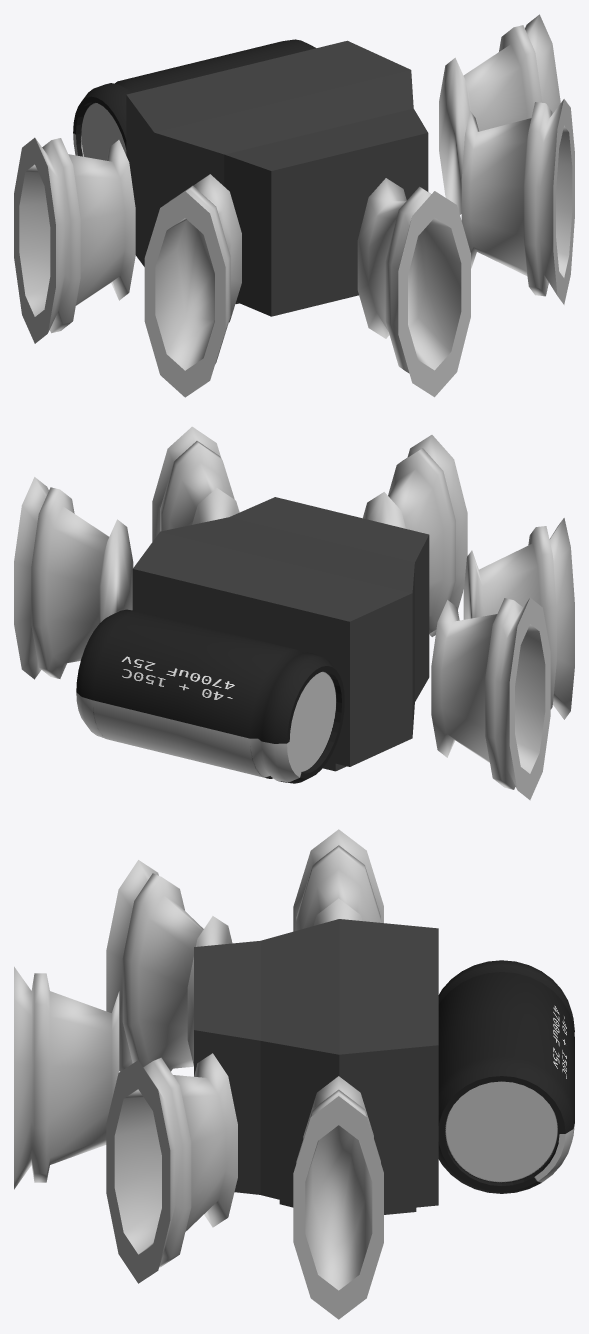
Rendered from AOEgunTower.fbx.
The picture shows the model from 3 angles, top to bottom: view 1: azimuth 30°, elevation 25°; view 2: azimuth 150°, elevation 25°; view 3: azimuth 270°, elevation 25°; orthographic projection. The views are drawn at different scales.
Visible parts, largest first — view 1: Turret, Barrel_001, Barrel_002, Barrel_004, Barrel_003, Barrel, Cap; view 2: Turret, Cap, Barrel_001, Barrel, Barrel_003, Barrel_002, Barrel_004; view 3: Turret, Cap, Barrel_004, Barrel_002, Barrel, Barrel_003, Barrel_001.
Boxes of the visible parts, box(x1,y1,x2,y2) form: Turret: box(126, 40, 428, 316); Barrel_001: box(14, 137, 135, 343); Barrel_002: box(357, 178, 470, 397); Barrel_004: box(461, 99, 574, 304); Barrel_003: box(144, 174, 241, 397); Barrel: box(439, 14, 560, 214); Cap: box(73, 39, 315, 160); Turret: box(132, 497, 429, 771); Cap: box(76, 609, 344, 783); Barrel_001: box(431, 598, 550, 800); Barrel: box(14, 477, 133, 679); Barrel_003: box(463, 518, 574, 719); Barrel_002: box(363, 435, 467, 636); Barrel_004: box(152, 426, 239, 541); Turret: box(194, 919, 438, 1214); Cap: box(438, 960, 574, 1193); Barrel_004: box(106, 1053, 237, 1283); Barrel_002: box(14, 966, 119, 1189); Barrel: box(293, 1076, 383, 1319); Barrel_003: box(106, 860, 232, 1071); Barrel_001: box(293, 829, 383, 931).
Size of the model in its own units: 4.94 by 1.97 by 4.39.
